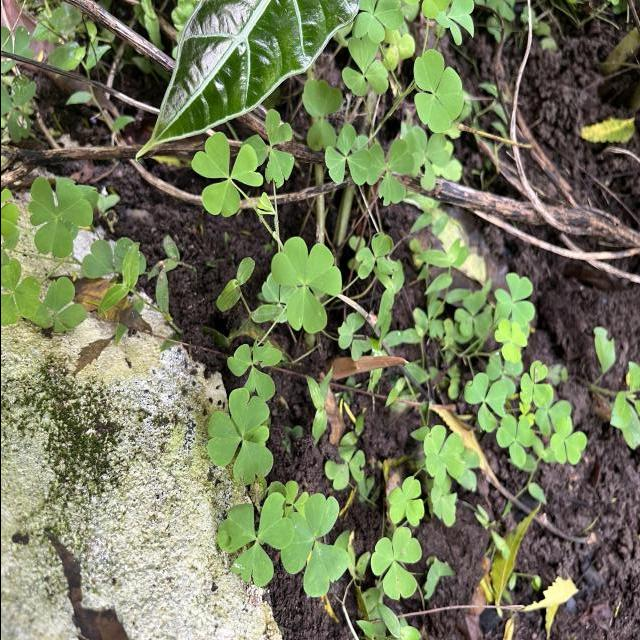Oxalis corniculata: (214, 492, 296, 590), (268, 234, 343, 336), (204, 388, 274, 487), (190, 131, 263, 219), (294, 492, 351, 598), (27, 174, 93, 259), (412, 48, 464, 135), (368, 525, 422, 601), (34, 274, 88, 334), (370, 138, 415, 208), (323, 122, 371, 186), (462, 370, 508, 434), (422, 422, 465, 486), (263, 106, 294, 190), (495, 414, 534, 469), (386, 476, 424, 528), (493, 317, 527, 363)
